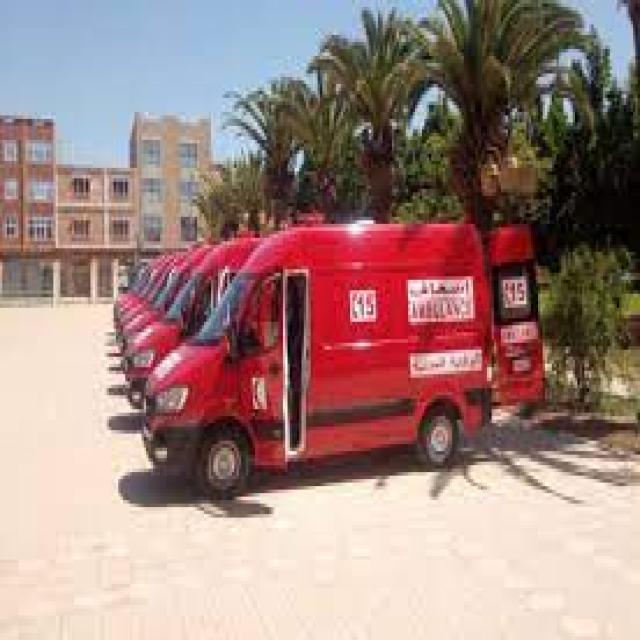ambulance: (143, 216, 529, 501)
